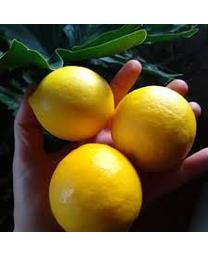lemon: (51, 145, 141, 231), (117, 86, 196, 173), (29, 65, 114, 142)
